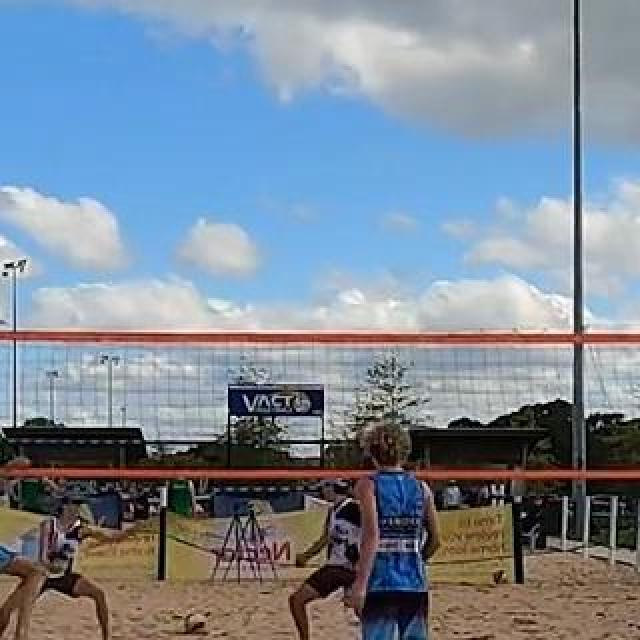volleyball: (183, 612, 207, 636)
